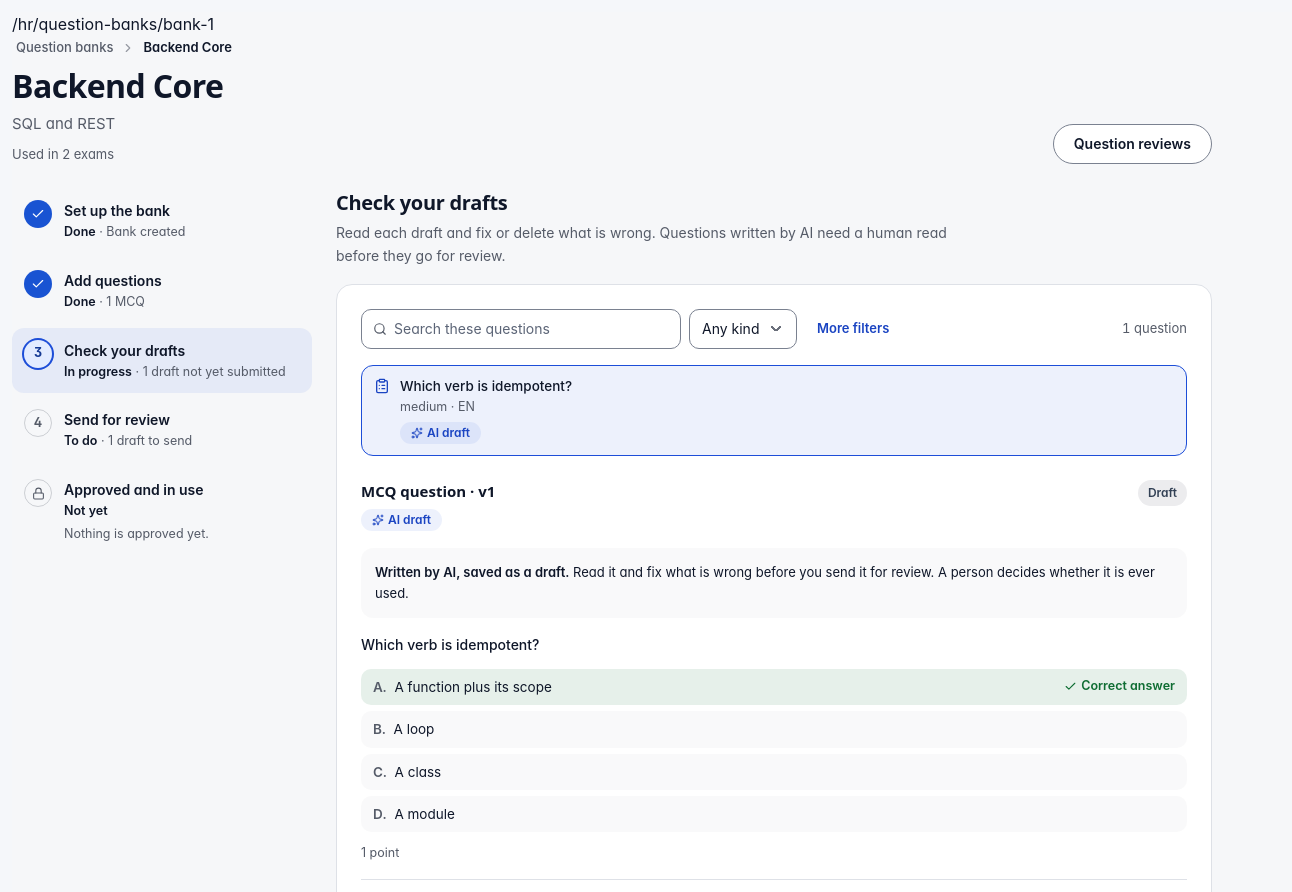
Scenario: QuestionBankFlow - which stage a bank opens on › carries the chosen stage in the URL
The width and height of the screenshot is (1292, 892).
Click the button "Add questions Done · 1 MCQ": coordinates (162, 291) [12,258,312,324]
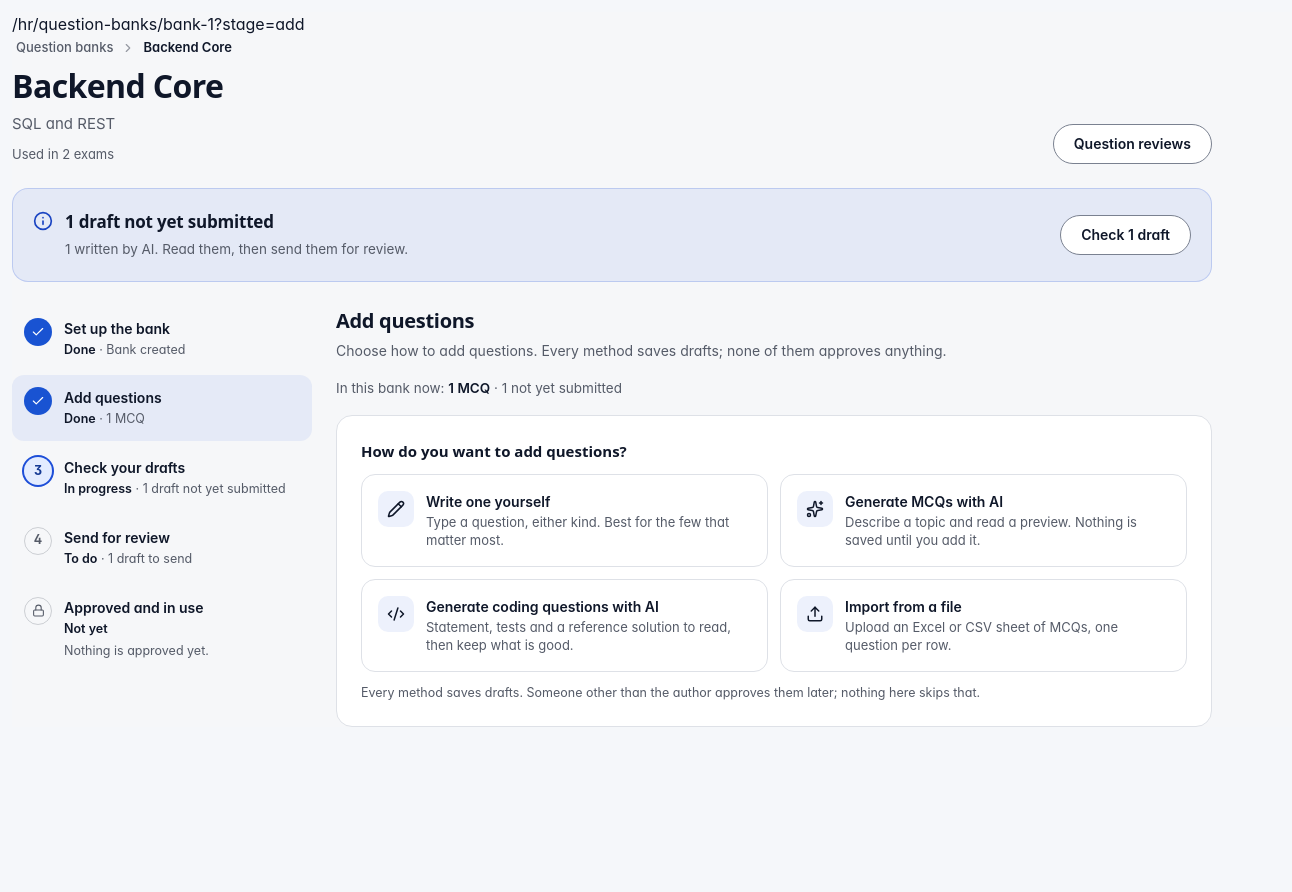
Check: the text with test id "where" shows "?stage=add", box [12,14,305,34]
